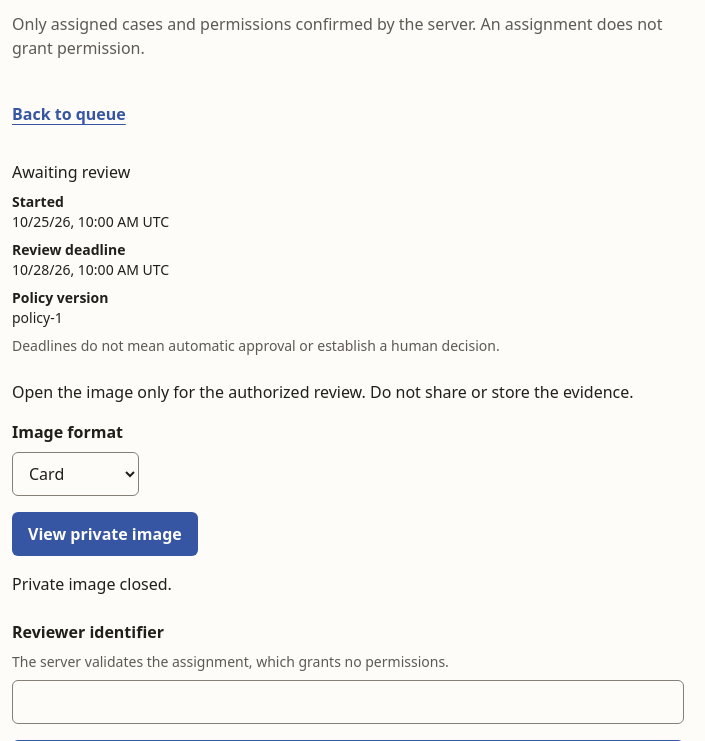
it: private photo review UI › sends assignment to its own endpoint without granting a local permission
The width and height of the screenshot is (705, 741).
Type "dddddddd-dddd-4ddd-8ddd-dddddddddddd" into the field labelled "Reviewer identifier".
click(348, 702); type("dddddddd-dddd-4ddd-8ddd-dddddddddddd")  # box [12,680,684,724]
(page scrolled)
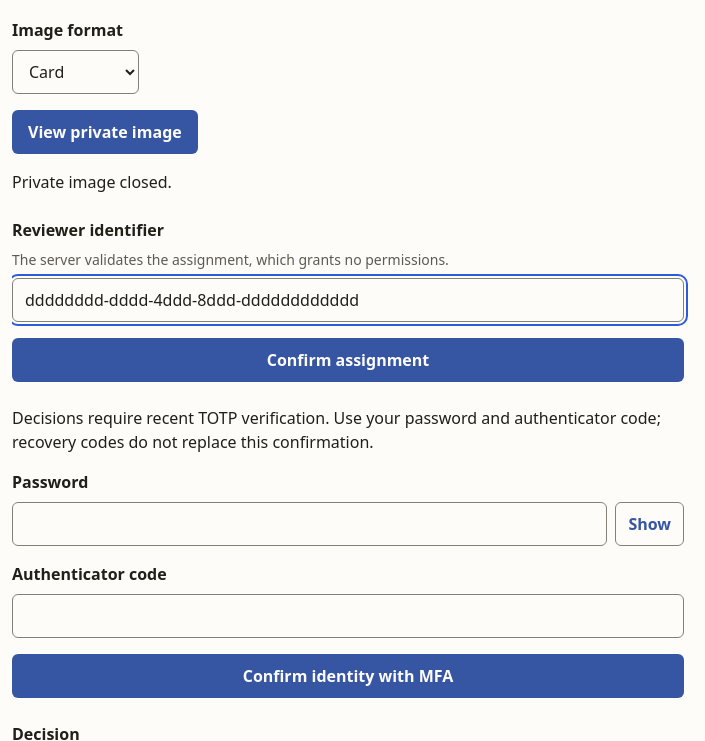
Click the button "Confirm assignment".
click(348, 360)  # box [12,338,684,382]
(page scrolled)
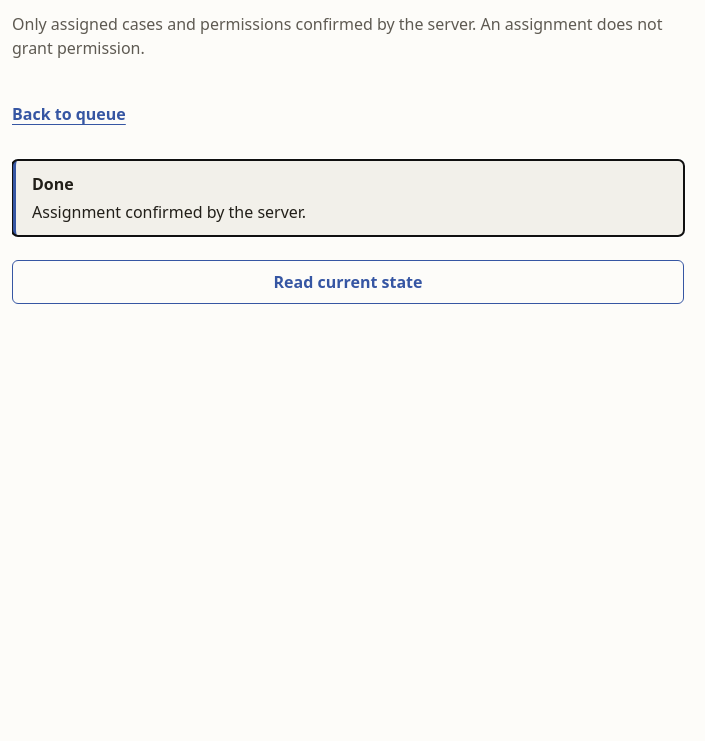
Expected: the text "Assignment confirmed by the server." is shown, [32,201,306,223]
